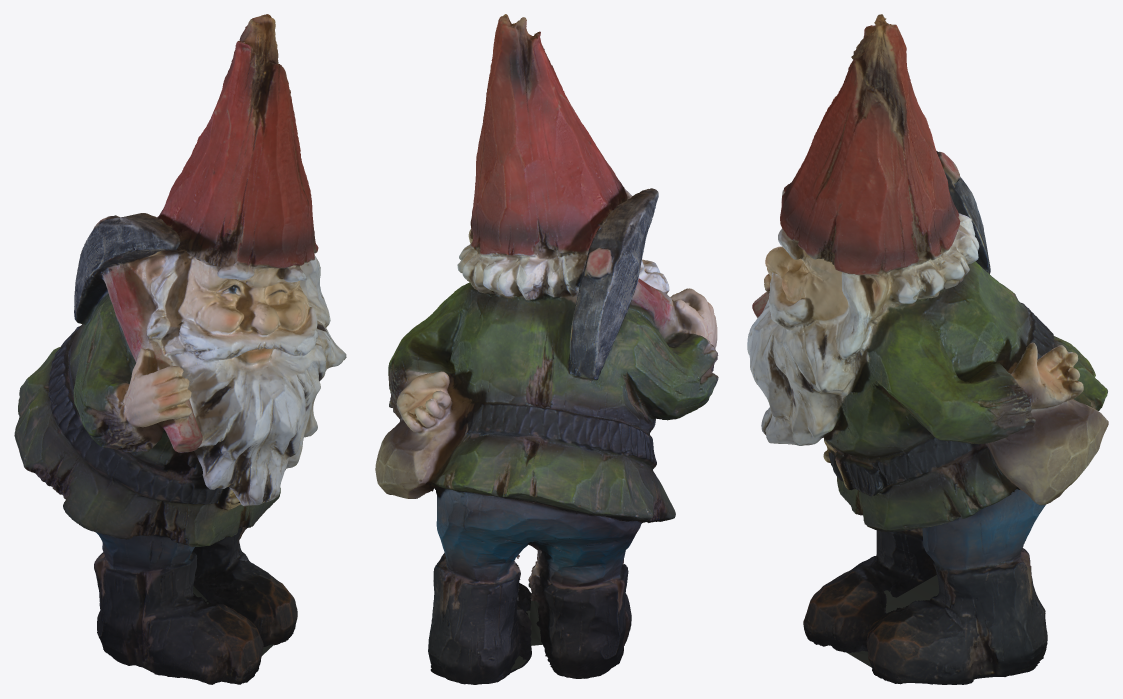
File: gnome.glb
3 renders of one model, left to right at view 1: azimuth 30°, elevation 25°; view 2: azimuth 150°, elevation 25°; view 3: azimuth 270°, elevation 25°, orthographic. The views are drawn at different scales.
Parts seen in each view (by area): view 1: Object_3, Object_2; view 2: Object_2, Object_3; view 3: Object_2, Object_3.
Part boxes in pixels (x1,y1,x2,y2): Object_3: [66, 14, 346, 684]; Object_2: [14, 14, 338, 682]; Object_2: [375, 14, 716, 684]; Object_3: [398, 15, 718, 661]; Object_2: [766, 24, 1108, 684]; Object_3: [747, 14, 1011, 683].
Size of the model in its own units: 2.33 by 5.11 by 2.57.
Materials: 1 (1 with a texture image).
